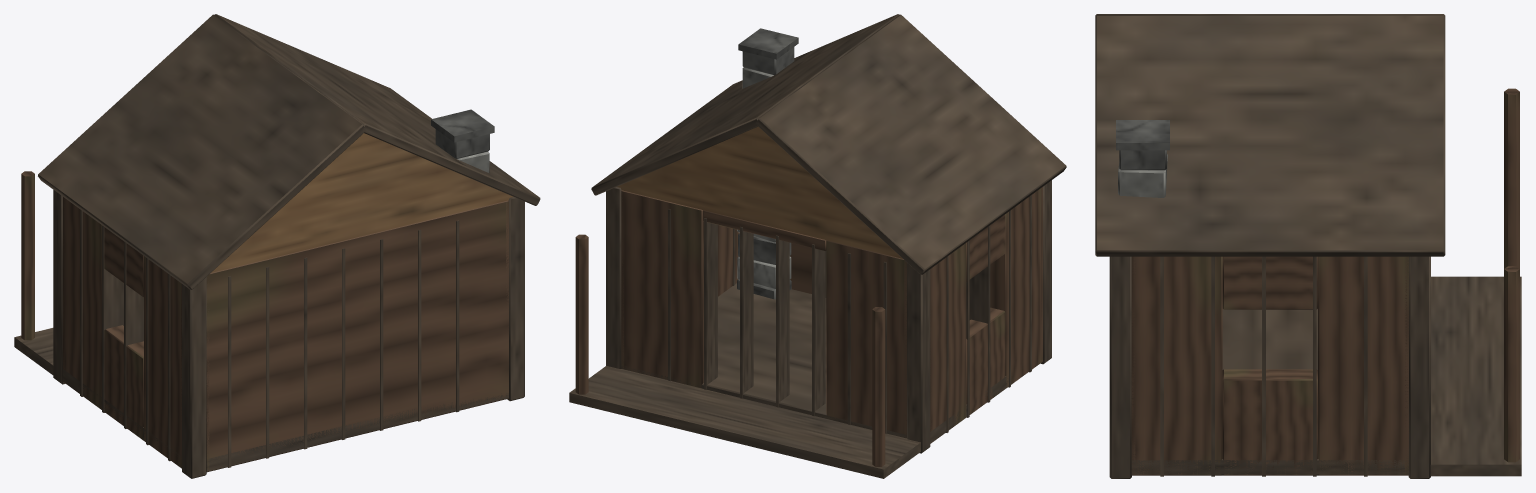
File: SM_POI_Cabin.fbx
The picture shows the model from 3 angles, left to right: view 1: azimuth 30°, elevation 25°; view 2: azimuth 150°, elevation 25°; view 3: azimuth 270°, elevation 25°; orthographic projection. The views are drawn at different scales.
Visible parts, largest first — view 1: SM_POI_Cabin; view 2: SM_POI_Cabin; view 3: SM_POI_Cabin.
Part boxes in pixels (left/top/right/bottom): SM_POI_Cabin: left=14, top=14, right=540, bottom=478; SM_POI_Cabin: left=569, top=14, right=1066, bottom=478; SM_POI_Cabin: left=1095, top=14, right=1521, bottom=478.
Bounding box in the file's own units: 14.87 × 12.84 × 13.4.
1 material, 1 textured.
